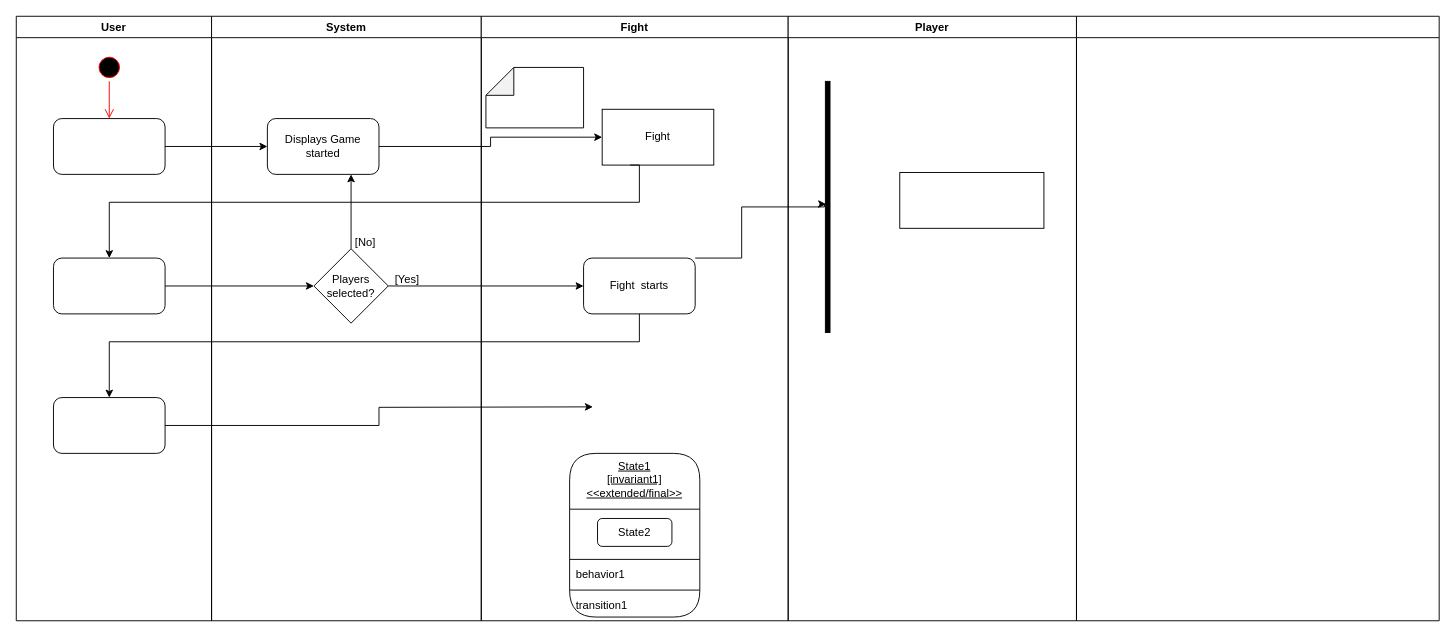
Some shapes in this 1455 by 637 pixel diagram are drawn without their labels. Each missing label, with the box of its shape:
Choose attack option: (53, 397, 165, 453)
Choose player and opponent: (53, 257, 165, 314)
Opponent: (1076, 15, 1439, 621)
start game: (53, 118, 165, 174)
System creaes fight object: (485, 66, 584, 128)
